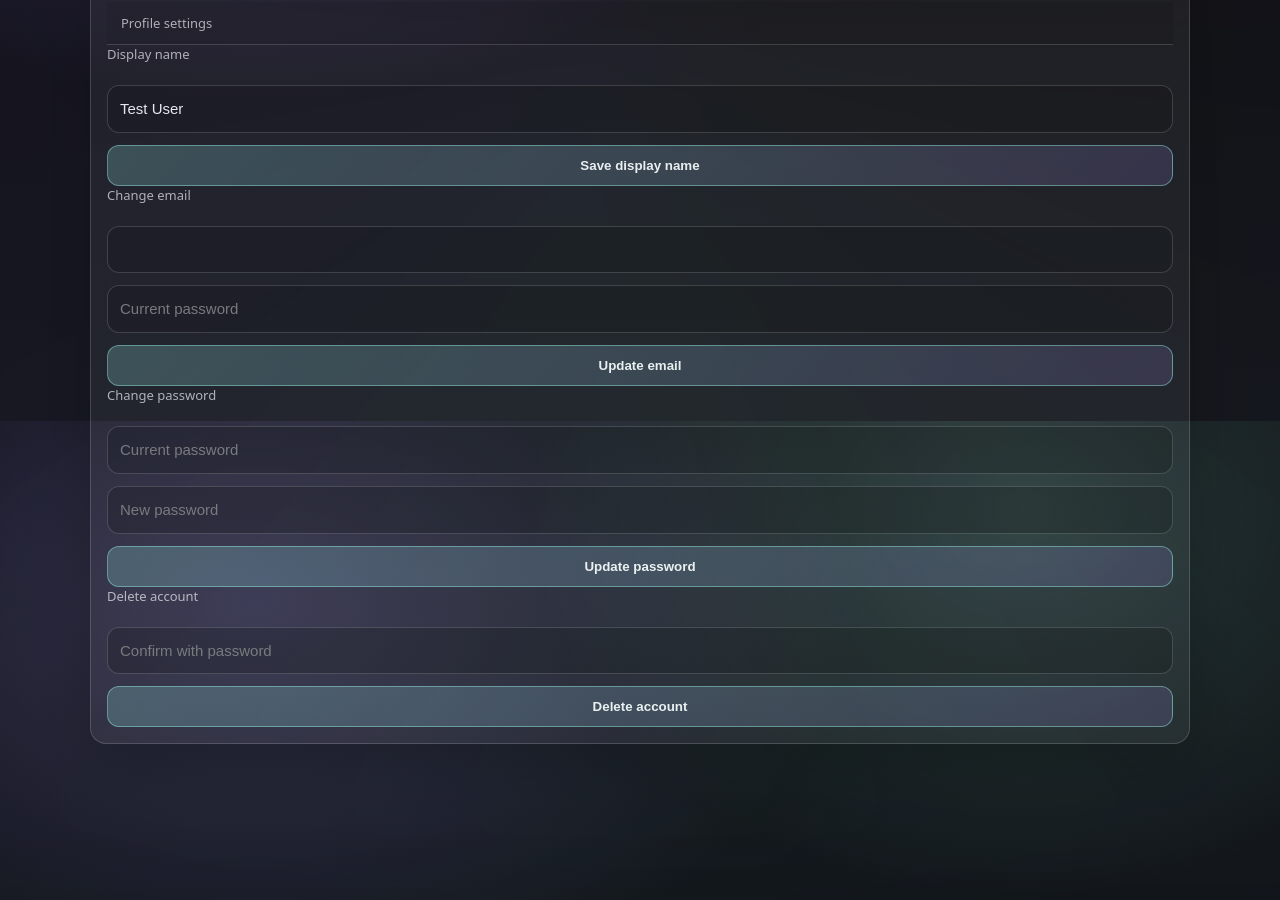
Test: DashboardPage › shows password update errors from non-error rejections
(page scrolled)
Step 1. Type "secret123" into the password field with placeholder "Current password" below "Change password" → (640, 450), box [107,426,1173,474]
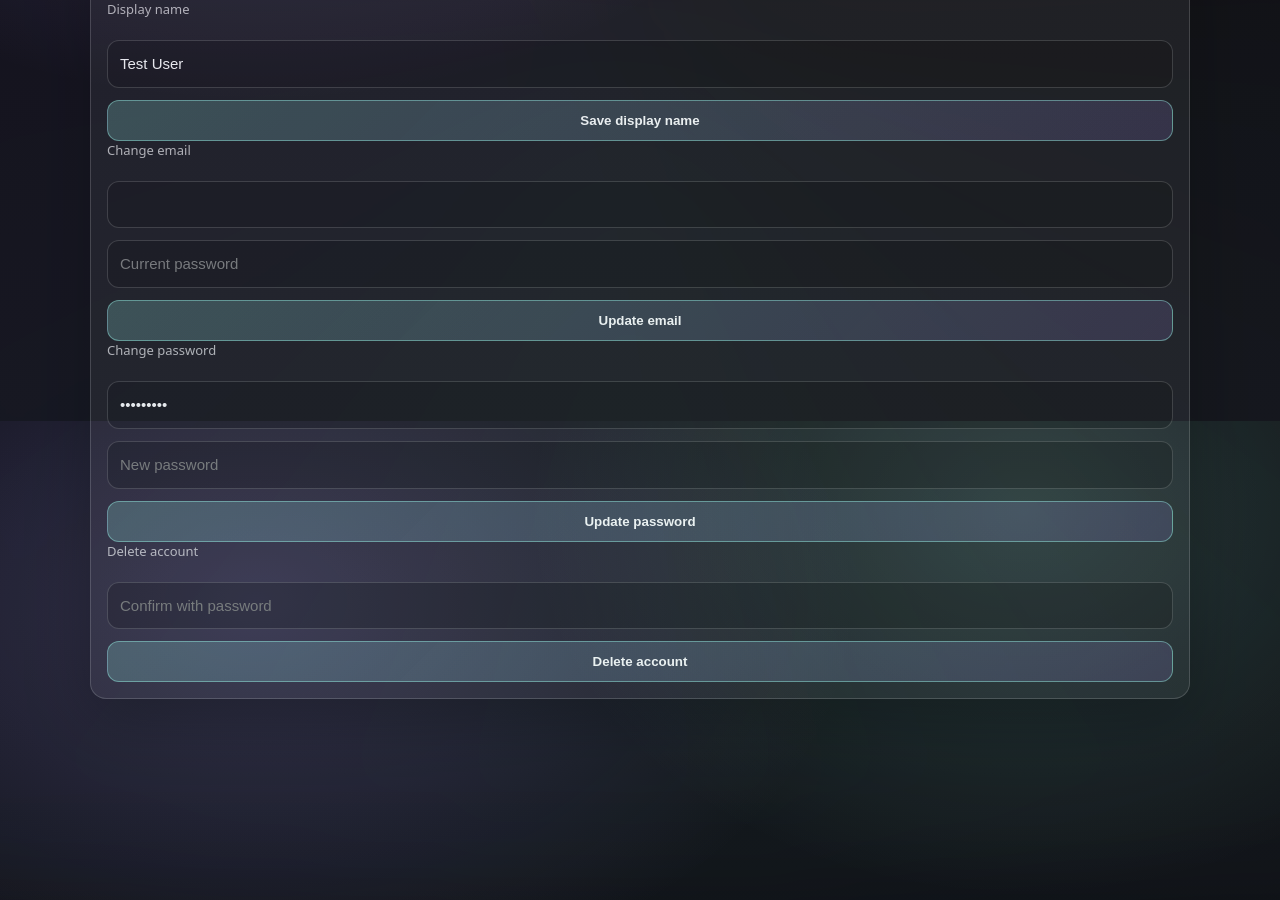
Step 2. Type "new-pass" into the password field with placeholder "New password" → (640, 465), box [107,441,1173,489]
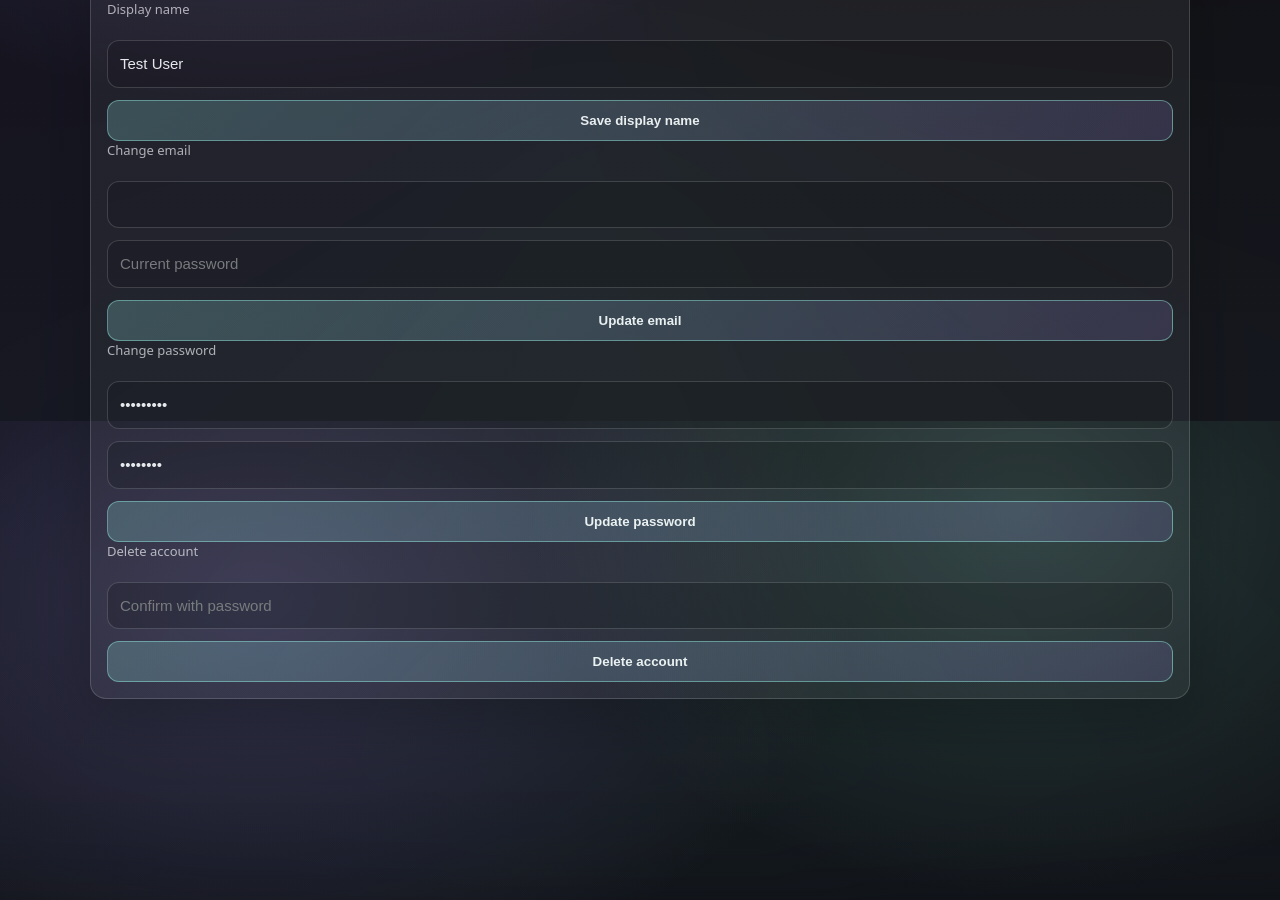
Step 3. Click the button "Update password" → (640, 521), box [107,501,1173,542]
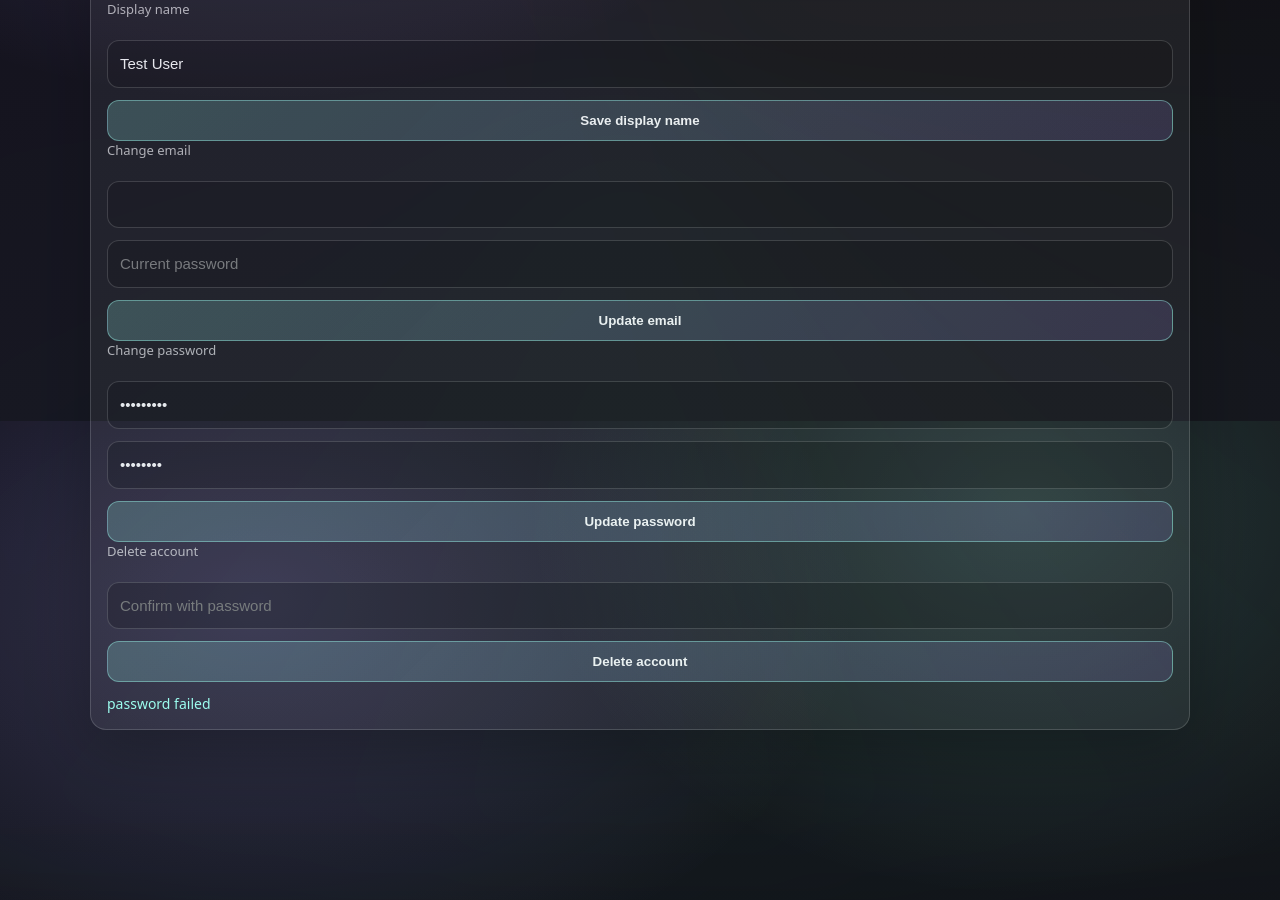
Check: the text "password failed" is shown, box [107,694,210,713]
